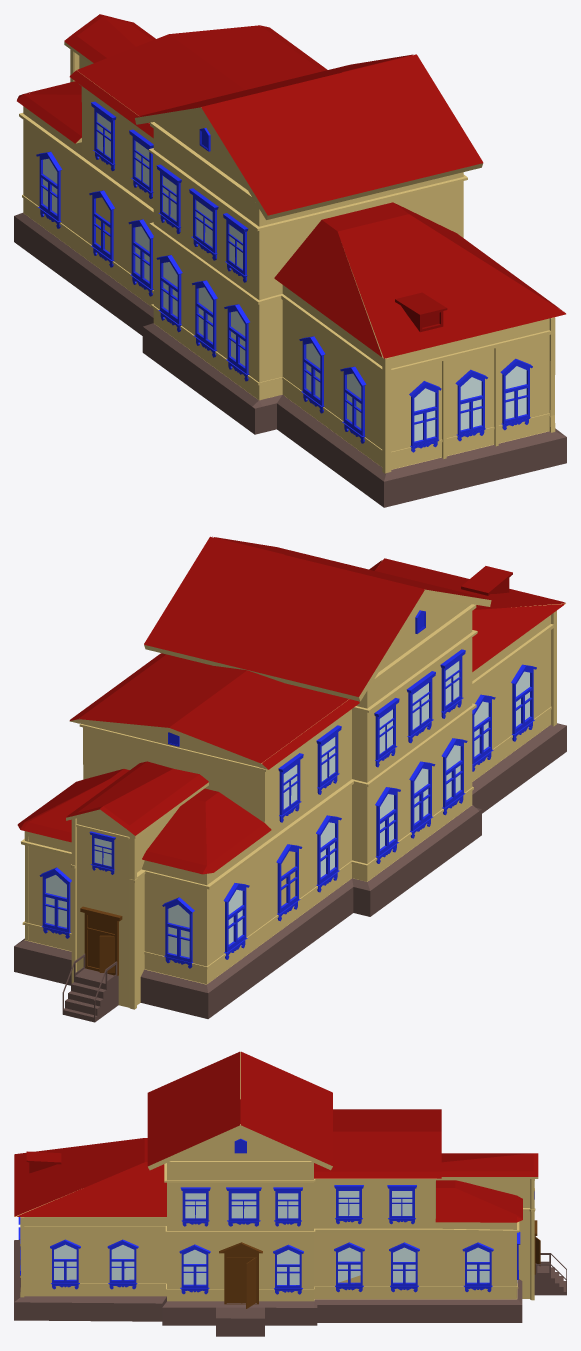
Rendered from gumrak.fbx.
3 views of the same model, one above another, from view 1: azimuth 30°, elevation 25°; view 2: azimuth 150°, elevation 25°; view 3: azimuth 270°, elevation 25° (orthographic). The views are drawn at different scales.
Parts seen in each view (by area): view 1: Куб, Плоскость.009, Куб.001; view 2: Куб, Плоскость.009, Куб.002, Плоскость.023, Куб.001; view 3: Куб, Плоскость.009, Плоскость.006, Куб.002, Куб.001.
Part boxes in pixels (x1=…): Куб: x1=14, y1=14, x2=566, y2=507; Плоскость.009: x1=36, y1=101, x2=532, y2=452; Куб.001: x1=395, y1=292, x2=447, y2=332; Куб: x1=14, y1=536, x2=566, y2=1018; Плоскость.009: x1=39, y1=610, x2=536, y2=968; Куб.002: x1=62, y1=954, x2=118, y2=1022; Плоскость.023: x1=80, y1=906, x2=122, y2=975; Куб.001: x1=461, y1=566, x2=512, y2=595; Куб: x1=14, y1=1051, x2=538, y2=1336; Плоскость.009: x1=18, y1=1138, x2=534, y2=1294; Плоскость.006: x1=219, y1=1242, x2=262, y2=1308; Куб.002: x1=534, y1=1253, x2=566, y2=1295; Куб.001: x1=26, y1=1151, x2=61, y2=1173.
Size of the model in its own units: 828 by 901 by 2259.
